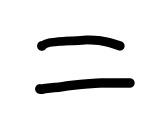eqv: (28, 33, 136, 96)
